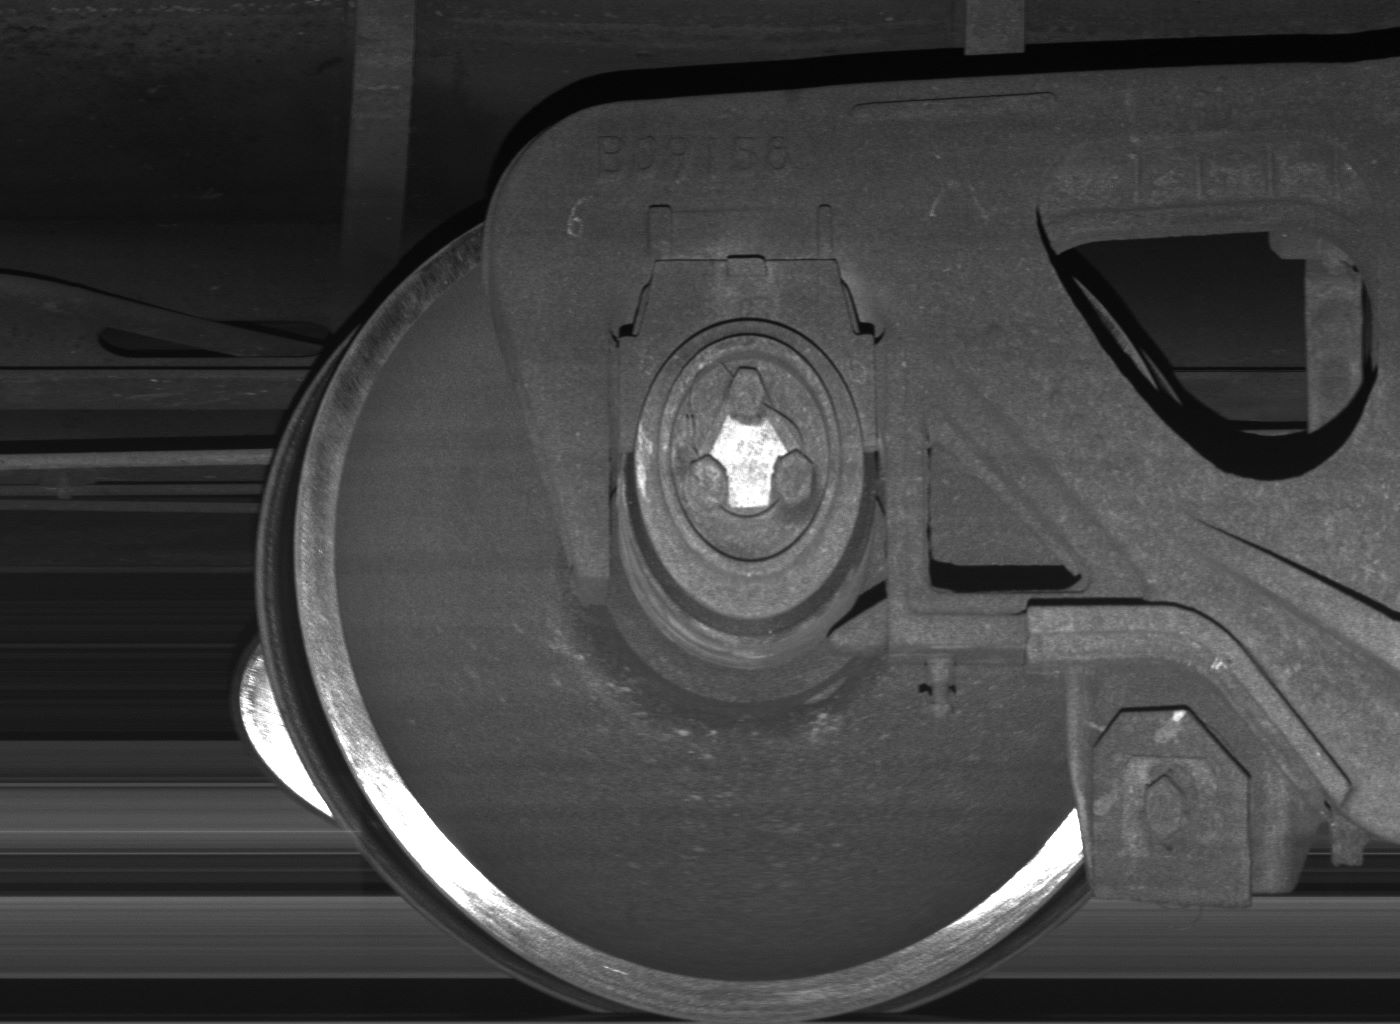normal: (1068, 663, 1298, 908)
